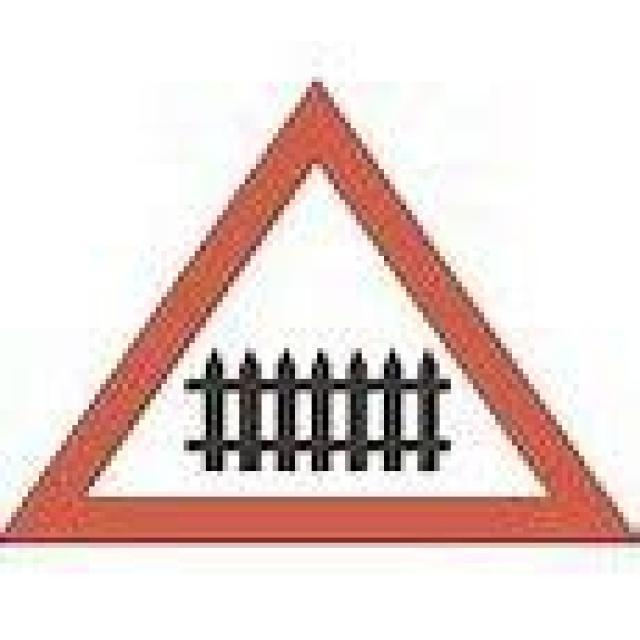guarded level crossing: (27, 80, 615, 542)
